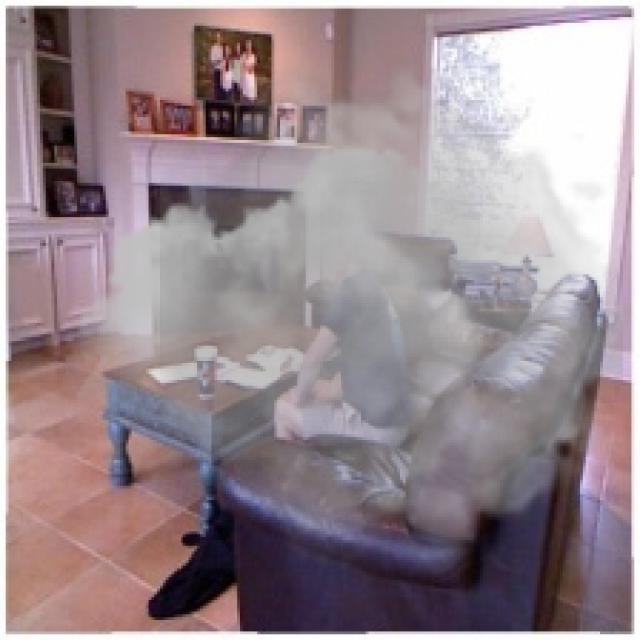smoke: (66, 49, 623, 577)
